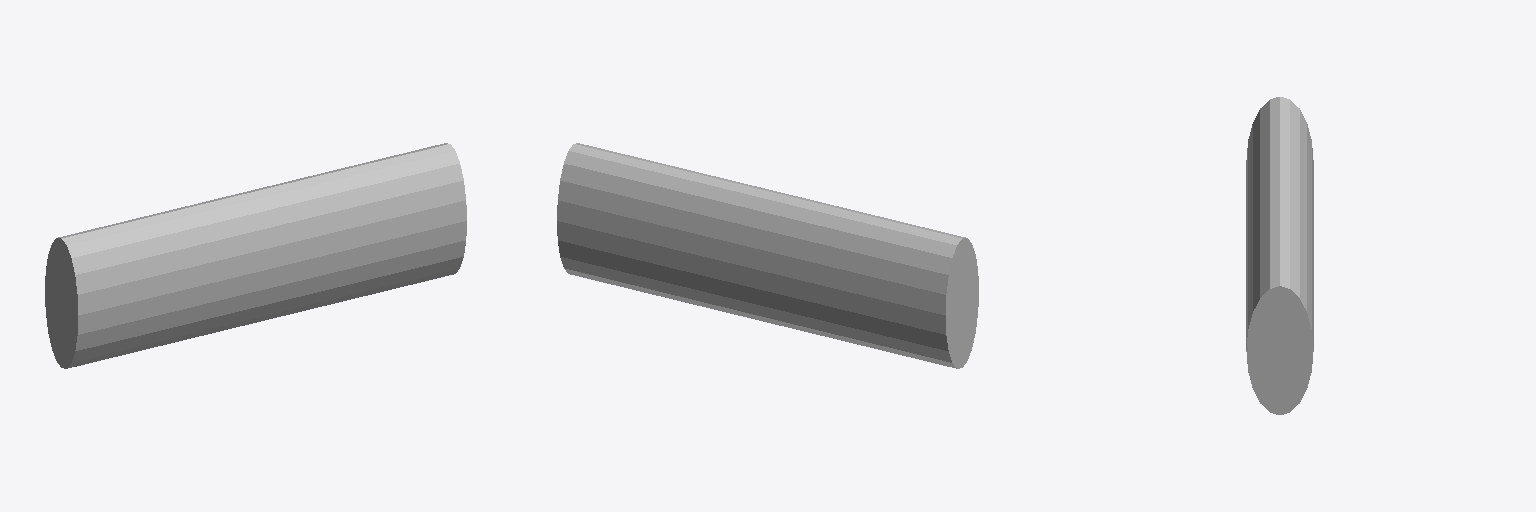
The model's file is jamar.obj.
3 renders of one model, left to right at view 1: azimuth 30°, elevation 25°; view 2: azimuth 150°, elevation 25°; view 3: azimuth 270°, elevation 25°, orthographic.
Bounding box in the file's own units: 0.15 × 0.0478 × 0.0225.